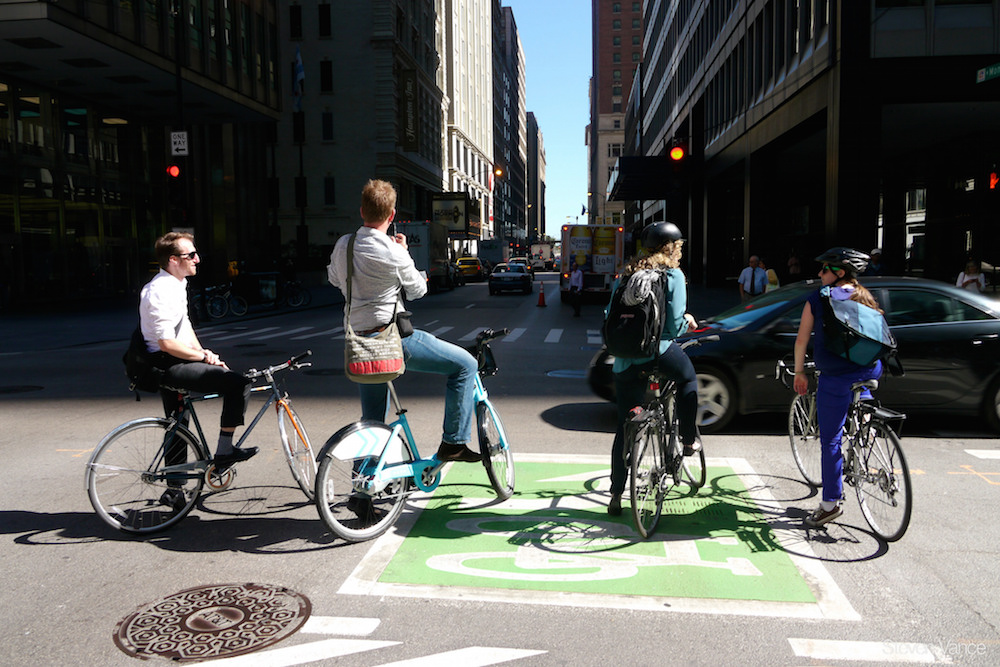cyclist_back: (782, 236, 917, 555), (596, 218, 724, 541)
cyclist_side: (309, 164, 526, 540), (80, 217, 325, 535)
